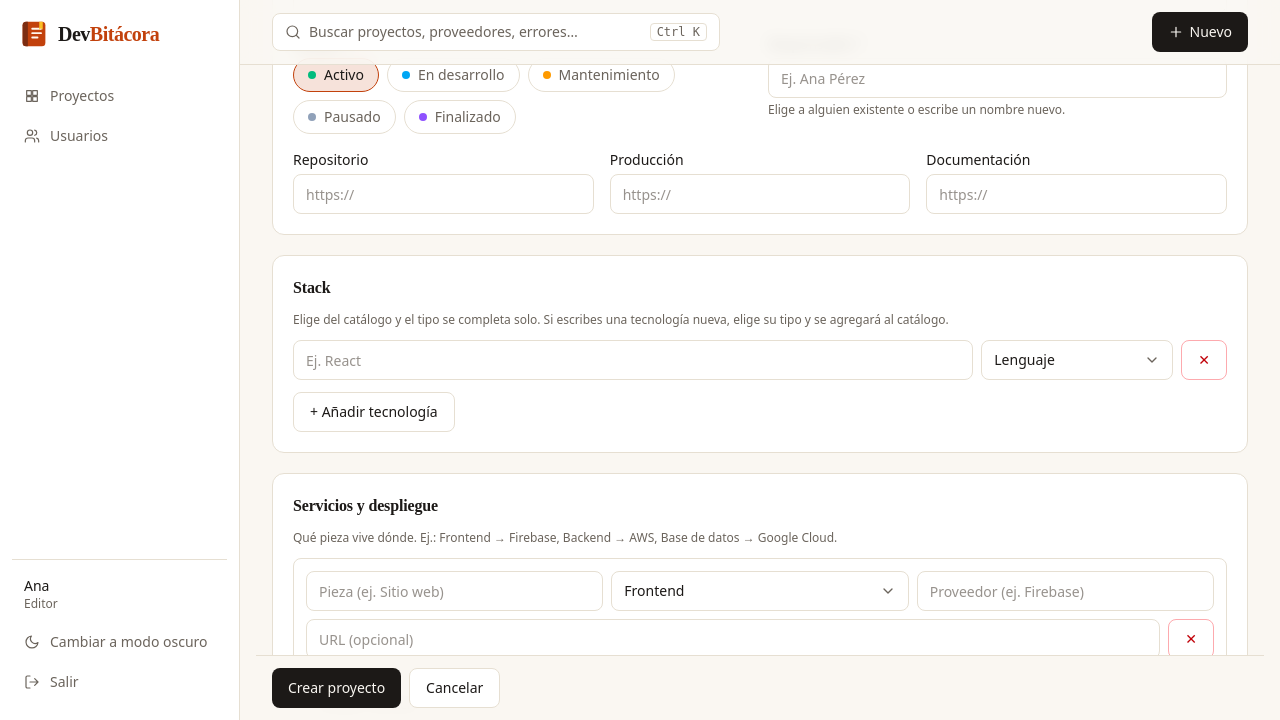
it: controles propios › el selector de tecnología sugiere el catálogo, completa el tipo y ofrece crear una nueva
Later steps or results of the test are not shown.
(page scrolled)
Type "Rea" into the dropdown named "Tecnología" at (633, 360), box [293,340,973,380]
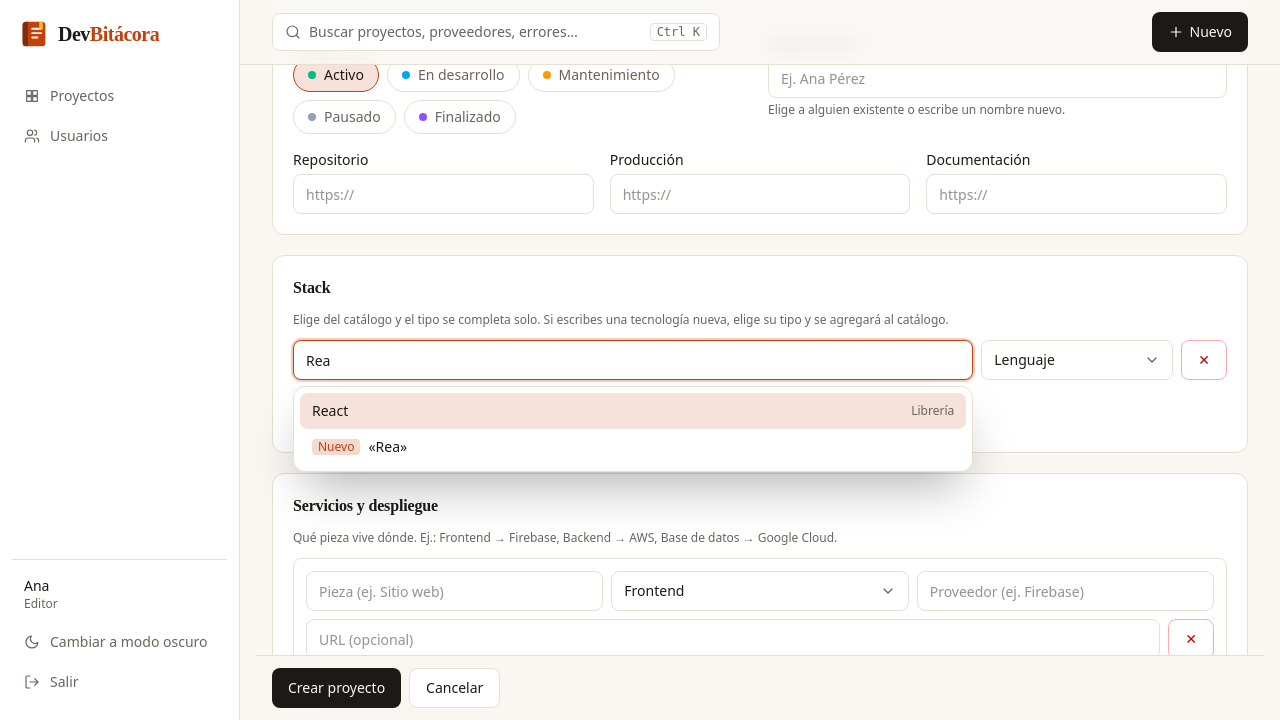
Click the option "React Librería" at (330, 410), box [300,393,966,429]
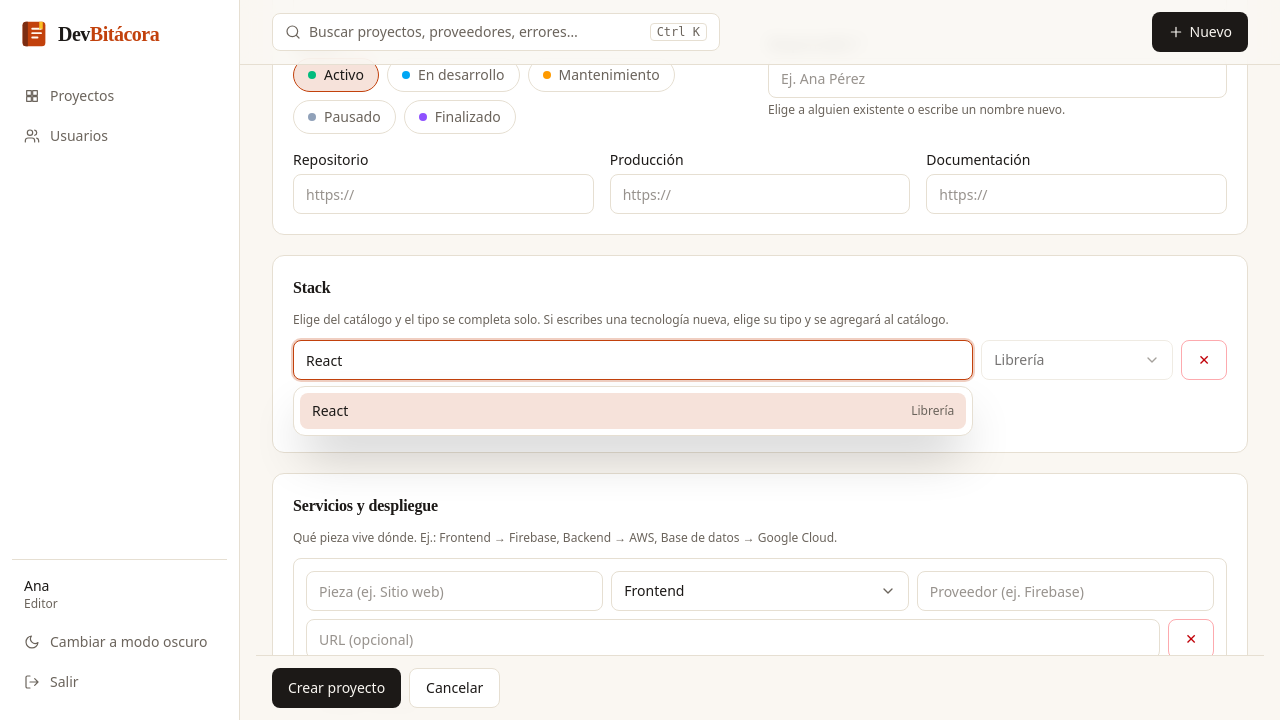
Expected: the dropdown named "Tecnología" holds "React"
Replace the text in the dropdown named "Tecnología" with "Svelte" at (633, 360), box [293,340,973,380]
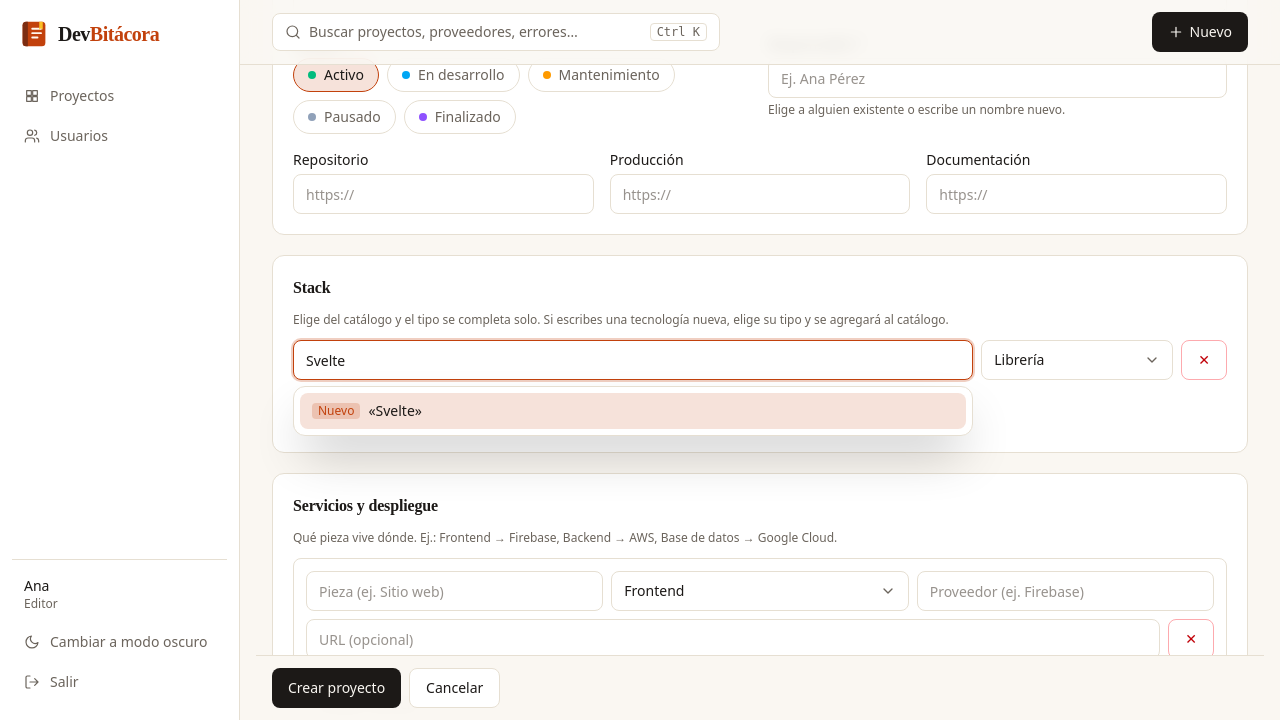
Expected: the option "Nuevo «Svelte»" is shown, [300,393,966,429]
